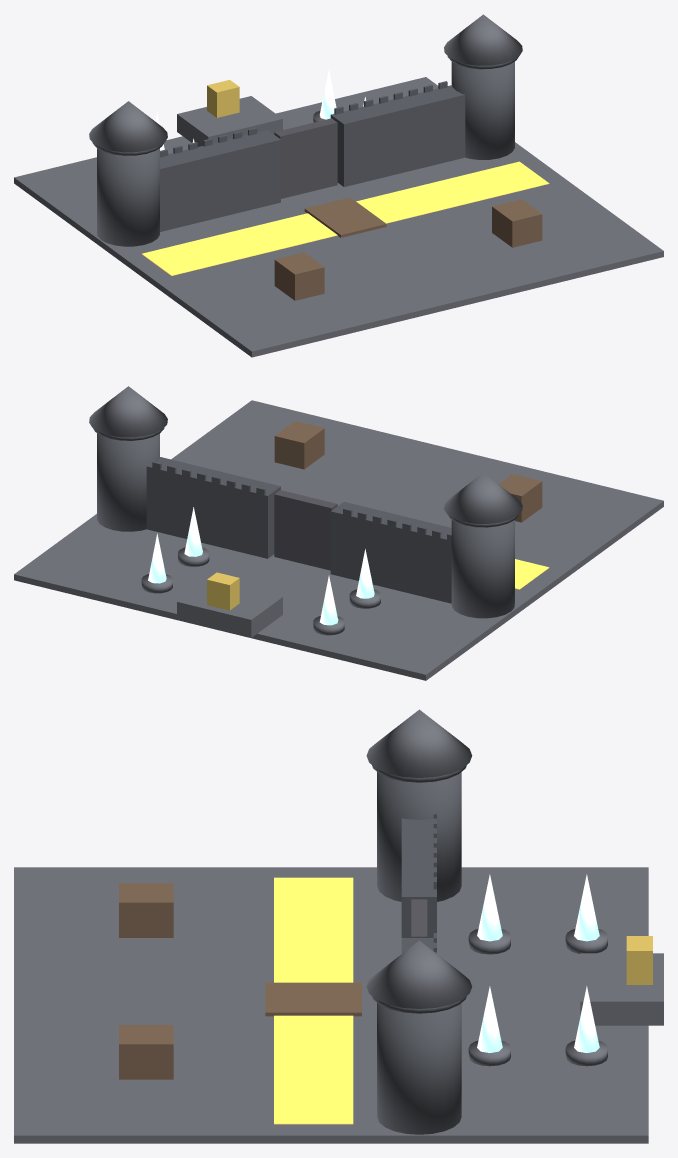
Rendered from valley_of_loren_citadel.glb.
The picture shows the model from 3 angles, top to bottom: view 1: azimuth 30°, elevation 25°; view 2: azimuth 150°, elevation 25°; view 3: azimuth 270°, elevation 25°; orthographic projection. The views are drawn at different scales.
Parts seen in each view (by area): view 1: VOL_SiegeGroundTotal, VOL_LavaMoat, VOL_CurtainWall_E_Body, VOL_CurtainWall_W_Body, VOL_BastionTower_-1_Tower, VOL_BastionTower_1_Tower, VOL_IronGate, VOL_ThroneDais, VOL_BastionTower_-1_Roof, VOL_BastionTower_1_Roof, VOL_Catapult_1, VOL_Catapult_-1 (+2 smaller); view 2: VOL_SiegeGroundTotal, VOL_CurtainWall_E_Body, VOL_CurtainWall_W_Body, VOL_BastionTower_-1_Tower, VOL_BastionTower_1_Tower, VOL_IronGate, VOL_ThroneDais, VOL_BastionTower_1_Roof, VOL_BastionTower_-1_Roof, VOL_Catapult_1, VOL_Catapult_-1, VOL_ImperialThrone (+5 smaller); view 3: VOL_SiegeGroundTotal, VOL_LavaMoat, VOL_BastionTower_1_Tower, VOL_BastionTower_-1_Tower, VOL_ThroneDais, VOL_BastionTower_-1_Roof, VOL_BastionTower_1_Roof, VOL_CurtainWall_W_Body, VOL_Drawbridge, VOL_Catapult_1, VOL_Catapult_-1, VOL_ImperialThrone (+9 smaller).
Boxes of the visible parts, left/top/right/bottom form: VOL_SiegeGroundTotal: left=14, top=77, right=663, bottom=357; VOL_LavaMoat: left=142, top=161, right=549, bottom=275; VOL_CurtainWall_E_Body: left=330, top=85, right=465, bottom=186; VOL_CurtainWall_W_Body: left=160, top=130, right=280, bottom=231; VOL_BastionTower_-1_Tower: left=97, top=148, right=159, bottom=246; VOL_BastionTower_1_Tower: left=451, top=61, right=514, bottom=159; VOL_IronGate: left=274, top=118, right=337, bottom=198; VOL_ThroneDais: left=177, top=96, right=282, bottom=146; VOL_BastionTower_-1_Roof: left=89, top=101, right=167, bottom=152; VOL_BastionTower_1_Roof: left=444, top=14, right=522, bottom=65; VOL_Catapult_1: left=492, top=199, right=542, bottom=247; VOL_Catapult_-1: left=274, top=252, right=324, bottom=300; VOL_SiegeGroundTotal: left=14, top=400, right=663, bottom=680; VOL_CurtainWall_E_Body: left=146, top=457, right=280, bottom=558; VOL_CurtainWall_W_Body: left=330, top=501, right=451, bottom=603; VOL_BastionTower_-1_Tower: left=451, top=520, right=514, bottom=618; VOL_BastionTower_1_Tower: left=97, top=433, right=159, bottom=531; VOL_IronGate: left=274, top=490, right=337, bottom=570; VOL_ThroneDais: left=177, top=580, right=282, bottom=637; VOL_BastionTower_1_Roof: left=89, top=386, right=167, bottom=437; VOL_BastionTower_-1_Roof: left=444, top=473, right=522, bottom=523; VOL_Catapult_1: left=274, top=421, right=324, bottom=469; VOL_Catapult_-1: left=498, top=474, right=542, bottom=522; VOL_ImperialThrone: left=207, top=572, right=239, bottom=610; VOL_SiegeGroundTotal: left=14, top=867, right=648, bottom=1143; VOL_LavaMoat: left=274, top=877, right=353, bottom=1124; VOL_BastionTower_1_Tower: left=377, top=1003, right=461, bottom=1134; VOL_BastionTower_-1_Tower: left=377, top=772, right=461, bottom=901; VOL_ThroneDais: left=580, top=953, right=663, bottom=1025; VOL_BastionTower_-1_Roof: left=366, top=709, right=472, bottom=777; VOL_BastionTower_1_Roof: left=366, top=940, right=472, bottom=1008; VOL_CurtainWall_W_Body: left=401, top=818, right=436, bottom=937; VOL_Drawbridge: left=265, top=982, right=361, bottom=1016; VOL_Catapult_1: left=119, top=1025, right=173, bottom=1079; VOL_Catapult_-1: left=119, top=883, right=173, bottom=937; VOL_ImperialThrone: left=626, top=936, right=652, bottom=984.
Bounding box in the file's own units: 74 × 23.8 × 73.75.
